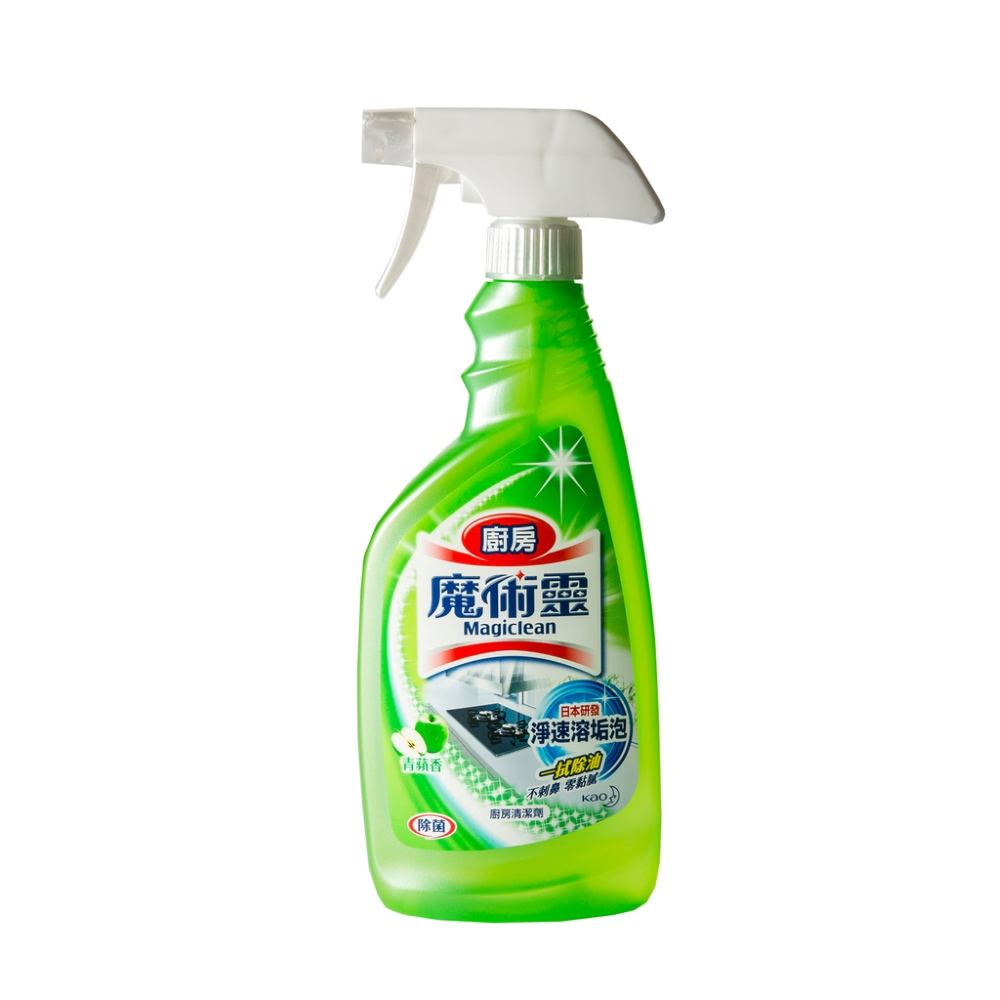cleaner: (347, 99, 697, 928)
